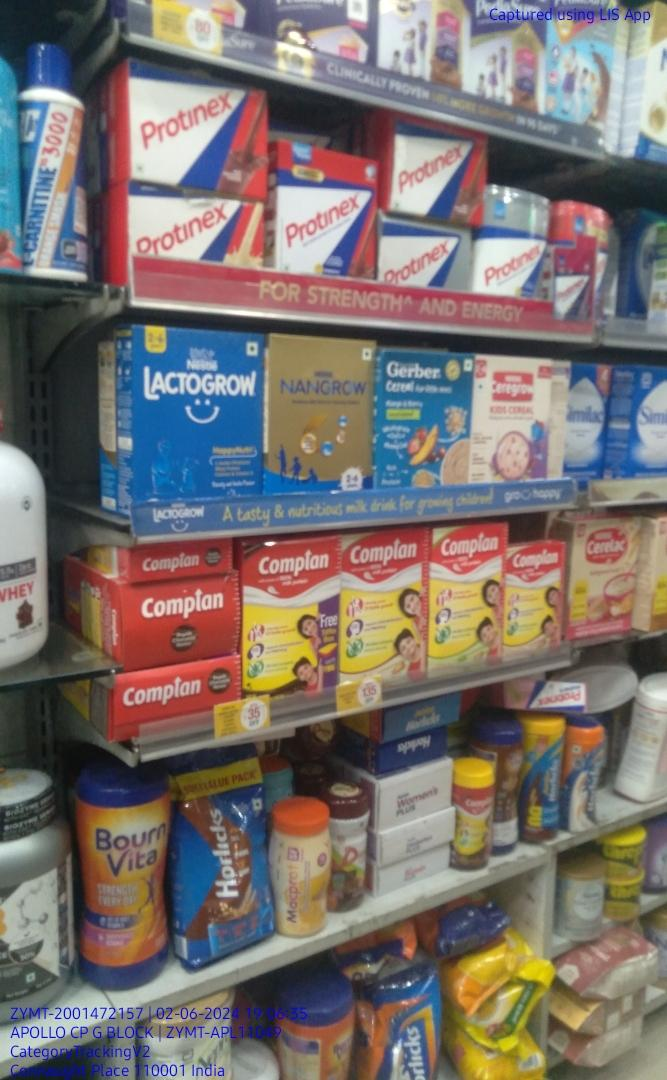BOURN_VITA_1_KG_JAR: (73, 771, 170, 984)
COMPLAN_CHOCOLATE_200_GMS_JAR: (450, 762, 494, 871)
COMPLAN_KESAR_BADAM_200_GMS_PACK: (509, 548, 565, 656)
COMPLAN_PISTA_BADAM_500_GMS_PACK: (431, 528, 505, 670)
HORLICK_CHOCOLATE_750_G_POUCH: (178, 763, 266, 959)
HORLICK_CLASSIC_MALT_500_G_JAR: (566, 725, 601, 830)
PROTINEX_ORIGINAL_400_G_JAR: (482, 184, 549, 298)
